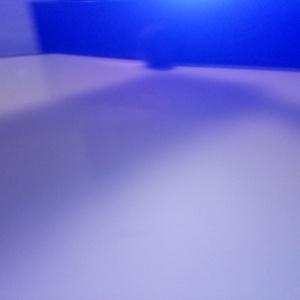dead_ball: (141, 25, 182, 68)
